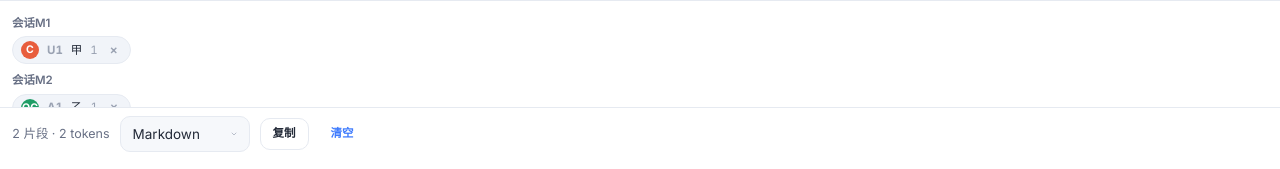
Test: SelectionTray (t226) › chip 单条移除
Expected: the text "2 片段 · 2 tokens" is shown, 12,125 -> 110,143
Click the button named "移除片段" at (114, 50), box 106,42 -> 122,58
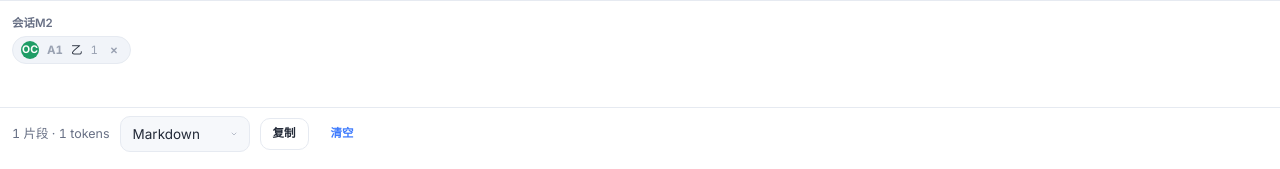
Expected: the text "1 片段 · 1 tokens" is shown, 12,125 -> 110,143
